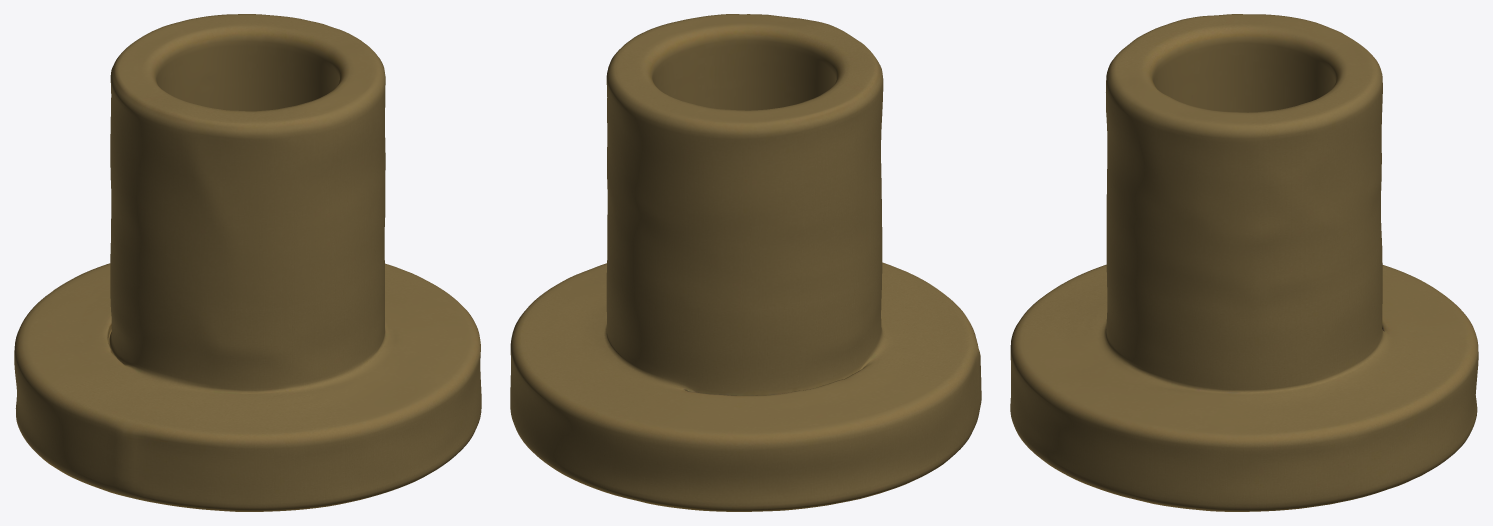
File: bronze+sleeve+bearing+3d+model.glb
The picture shows the model from 3 angles, left to right: view 1: azimuth 30°, elevation 25°; view 2: azimuth 150°, elevation 25°; view 3: azimuth 270°, elevation 25°; orthographic projection.
Visible parts, largest first — view 1: tripo_node_f85c5735-41e7-496b-96e6-3a2d6bc7dc9e; view 2: tripo_node_f85c5735-41e7-496b-96e6-3a2d6bc7dc9e; view 3: tripo_node_f85c5735-41e7-496b-96e6-3a2d6bc7dc9e.
Part boxes in pixels (box(x1,y1,x2,y2)): tripo_node_f85c5735-41e7-496b-96e6-3a2d6bc7dc9e: box(14, 14, 481, 511); tripo_node_f85c5735-41e7-496b-96e6-3a2d6bc7dc9e: box(510, 14, 981, 511); tripo_node_f85c5735-41e7-496b-96e6-3a2d6bc7dc9e: box(1010, 14, 1478, 511).
Bounding box in the file's own units: 0.9798 × 0.8033 × 0.9776.
1 material, 1 textured.
